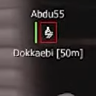hacks_3: (13, 8, 83, 60)
